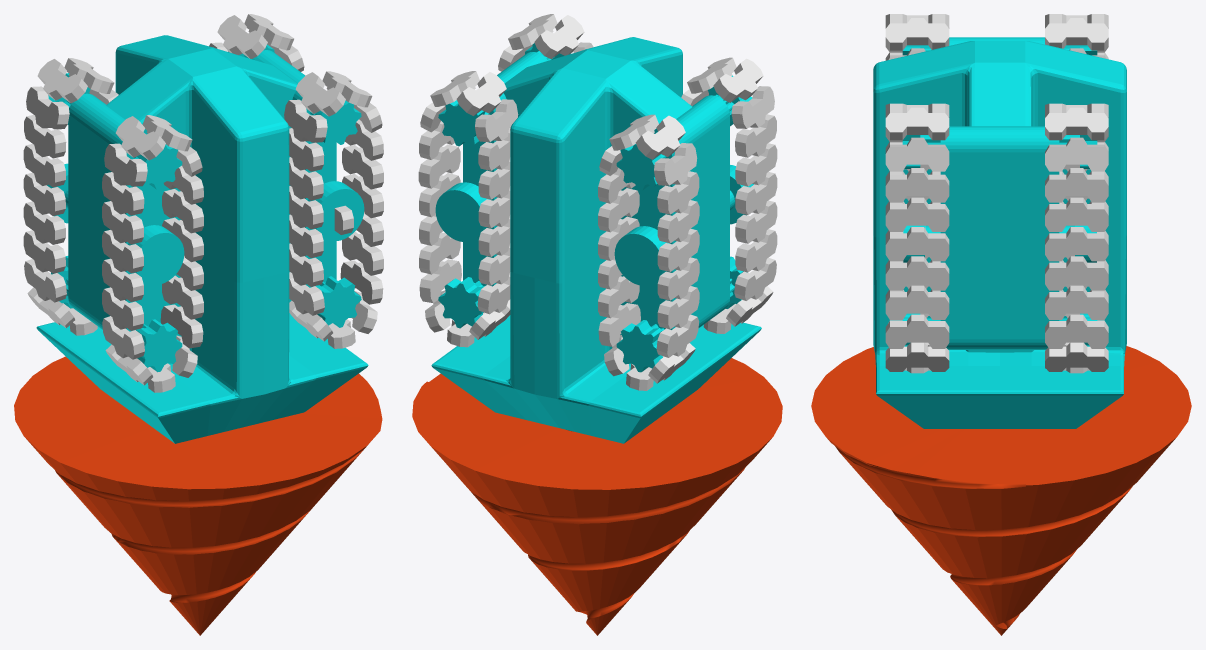
The model's file is drill_lvl1_modifiers_apllied.fbx.
3 views of the same model, side by side, from view 1: azimuth 30°, elevation 25°; view 2: azimuth 150°, elevation 25°; view 3: azimuth 270°, elevation 25° (orthographic). The views are drawn at different scales.
Parts seen in each view (by area): view 1: drill body, drill head, chain track|chain|Dupli|17, chain track|chain|Dupli|74, chain track|chain|Dupli|36, chain track|chain|Dupli|55, chain track|chain|Dupli|37, chain track|chain|Dupli|75, chain track|chain|Dupli|18, chain track|chain|Dupli|19, chain track|chain|Dupli|57, chain track|chain|Dupli|58 (+38 smaller); view 2: drill body, drill head, chain track|chain|Dupli|74, chain track|chain|Dupli|36, chain track|chain|Dupli|17, chain track|chain|Dupli|55, chain track|chain|Dupli|37, chain track|chain|Dupli|75, chain track|chain|Dupli|56, chain track|chain|Dupli|57, chain track|chain|Dupli|19, chain track|chain|Dupli|20 (+38 smaller); view 3: drill body, drill head, chain track|chain|Dupli|11, chain track|chain|Dupli|49, chain track|chain|Dupli|12, chain track|chain|Dupli|14, chain track|chain|Dupli|9, chain track|chain|Dupli|13, chain track|chain|Dupli|10, chain track|chain|Dupli|50, chain track|chain|Dupli|52, chain track|chain|Dupli|47 (+13 smaller).
Part boxes in pixels (x1,y1,x2,y2): drill body: (36, 35, 368, 443); drill head: (14, 356, 382, 635); chain track|chain|Dupli|17: (295, 72, 345, 116); chain track|chain|Dupli|74: (37, 59, 87, 103); chain track|chain|Dupli|36: (115, 116, 165, 160); chain track|chain|Dupli|55: (217, 15, 267, 58); chain track|chain|Dupli|37: (104, 143, 147, 186); chain track|chain|Dupli|75: (26, 86, 69, 129); chain track|chain|Dupli|18: (284, 99, 327, 142); chain track|chain|Dupli|19: (102, 172, 144, 215); chain track|chain|Dupli|57: (24, 115, 66, 158); chain track|chain|Dupli|58: (23, 144, 65, 187); drill body: (431, 37, 761, 443); drill head: (412, 358, 782, 635); chain track|chain|Dupli|74: (635, 115, 685, 159); chain track|chain|Dupli|36: (713, 58, 763, 102); chain track|chain|Dupli|17: (534, 15, 584, 59); chain track|chain|Dupli|55: (456, 72, 506, 115); chain track|chain|Dupli|37: (731, 86, 774, 128); chain track|chain|Dupli|75: (654, 143, 697, 185); chain track|chain|Dupli|56: (475, 99, 518, 141); chain track|chain|Dupli|57: (657, 171, 699, 214); chain track|chain|Dupli|19: (735, 114, 776, 157); chain track|chain|Dupli|20: (735, 143, 777, 186); drill body: (873, 37, 1126, 428); drill head: (811, 346, 1191, 635); chain track|chain|Dupli|11: (885, 256, 949, 290); chain track|chain|Dupli|49: (1045, 256, 1108, 290); chain track|chain|Dupli|12: (885, 227, 949, 261); chain track|chain|Dupli|14: (885, 168, 949, 202); chain track|chain|Dupli|9: (885, 314, 949, 348); chain track|chain|Dupli|13: (885, 197, 949, 231); chain track|chain|Dupli|10: (885, 285, 949, 319); chain track|chain|Dupli|50: (1045, 227, 1108, 261); chain track|chain|Dupli|52: (1045, 168, 1108, 202); chain track|chain|Dupli|47: (1045, 314, 1108, 348).
Bounding box in the file's own units: 298 × 509 × 300.
